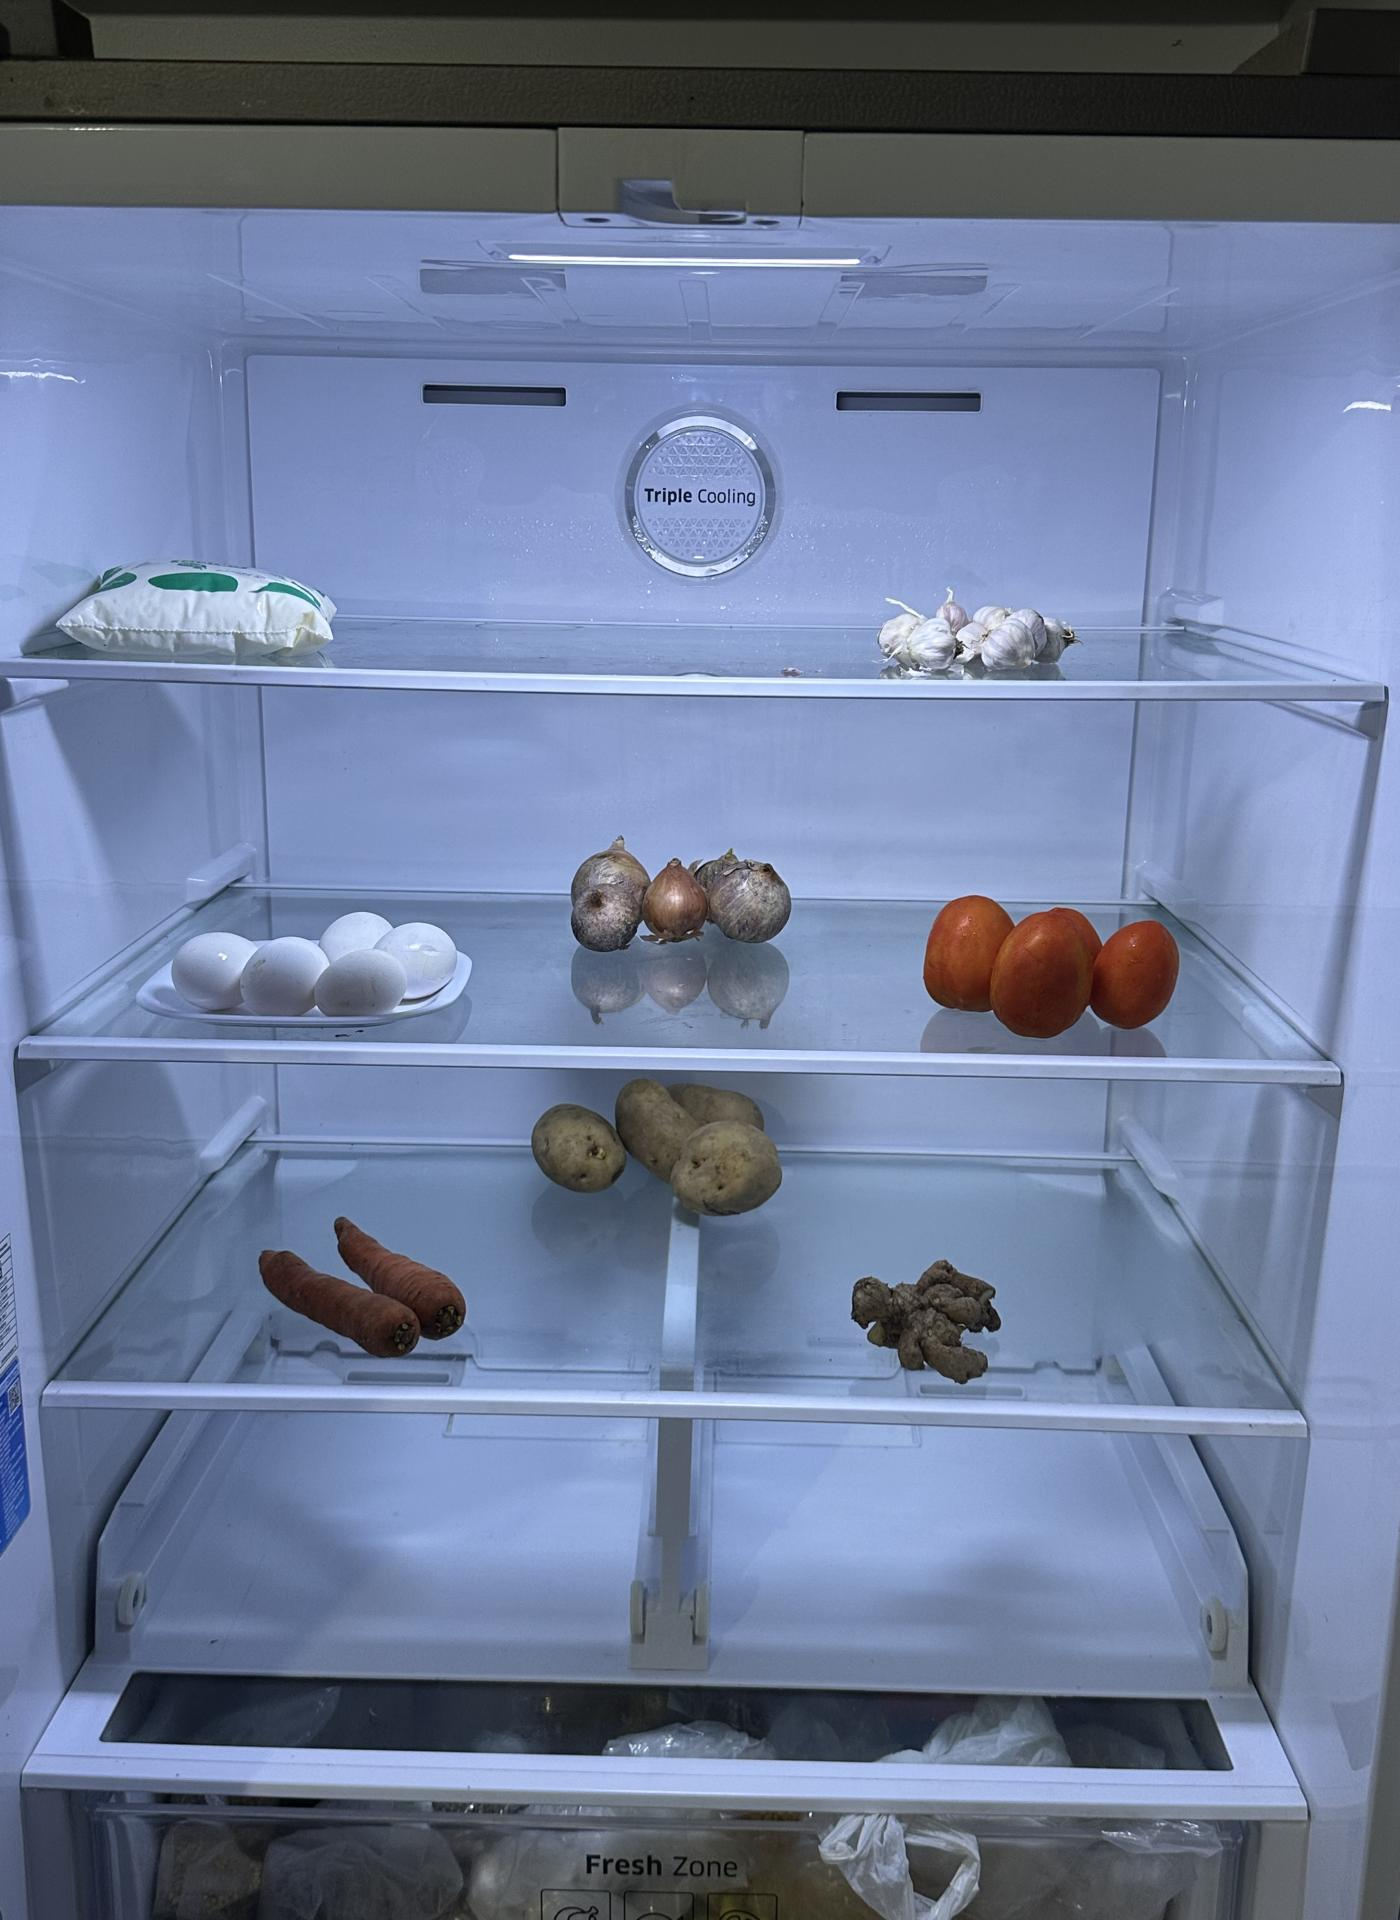carrots: (261, 1212, 471, 1367)
egg: (174, 906, 458, 1021)
garlic: (872, 589, 1084, 675)
ginger: (844, 1249, 1008, 1380)
milk: (52, 555, 338, 657)
onion: (570, 836, 790, 951)
potato: (529, 1073, 778, 1222)
tomato: (923, 891, 1182, 1035)
